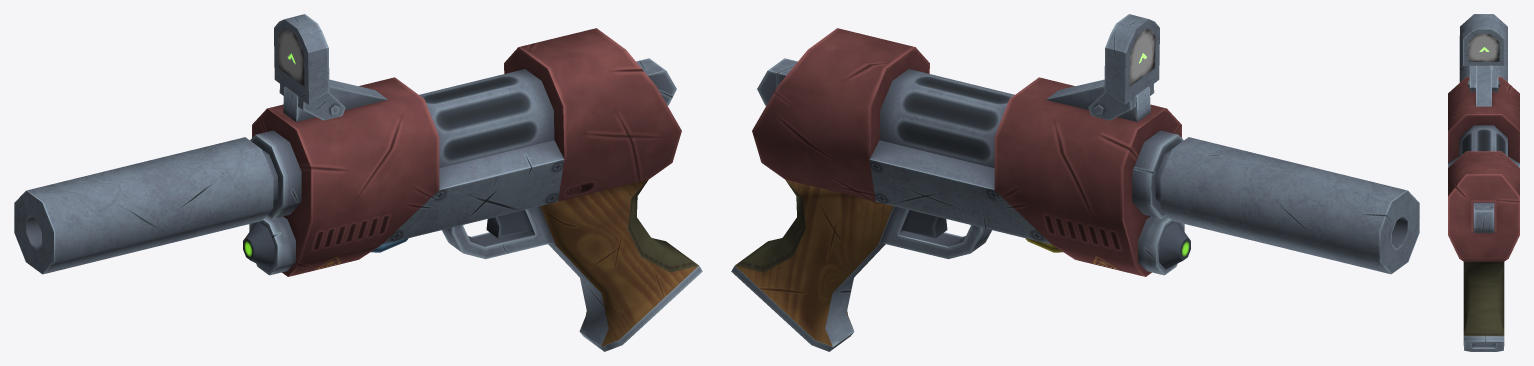
Rendered from pistol.glb.
The picture shows the model from 3 angles, left to right: view 1: azimuth 30°, elevation 25°; view 2: azimuth 150°, elevation 25°; view 3: azimuth 270°, elevation 25°; orthographic projection. The views are drawn at different scales.
Visible parts, largest first — view 1: gun1, silencer; view 2: gun1, silencer; view 3: gun1, silencer.
Part boxes in pixels (x1,y1,x2,y2): gun1: [243, 28, 702, 351]; silencer: [14, 14, 345, 274]; gun1: [731, 28, 1190, 351]; silencer: [1088, 14, 1419, 274]; gun1: [1448, 65, 1519, 351]; silencer: [1459, 14, 1507, 91].
Size of the model in its own units: 0.3828 by 0.2212 by 0.0603.
2 materials, 2 textured.
